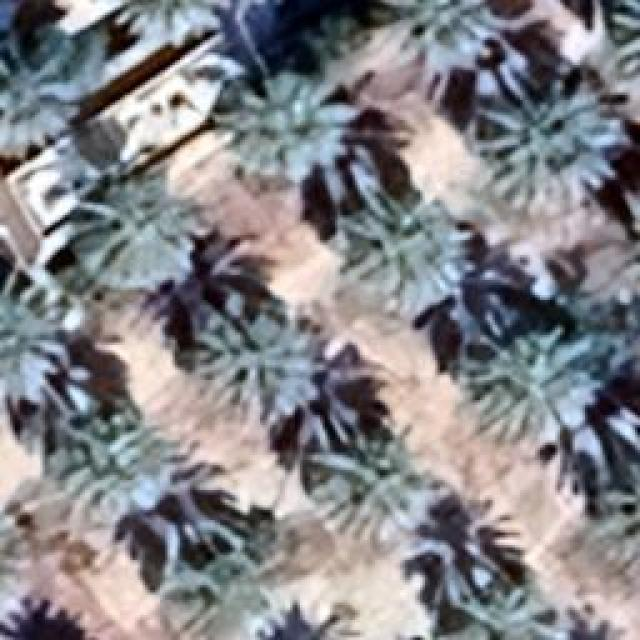PalmTree: (42, 46, 438, 108), (468, 74, 620, 218), (332, 190, 472, 320), (300, 427, 442, 555), (455, 325, 600, 450), (182, 302, 320, 430), (72, 172, 216, 290), (235, 70, 350, 195), (0, 278, 80, 410), (135, 450, 240, 548), (157, 568, 280, 638), (52, 408, 148, 492), (435, 578, 563, 638), (105, 0, 220, 48), (600, 462, 638, 568), (0, 496, 30, 618), (602, 0, 640, 95), (1, 493, 22, 616)
